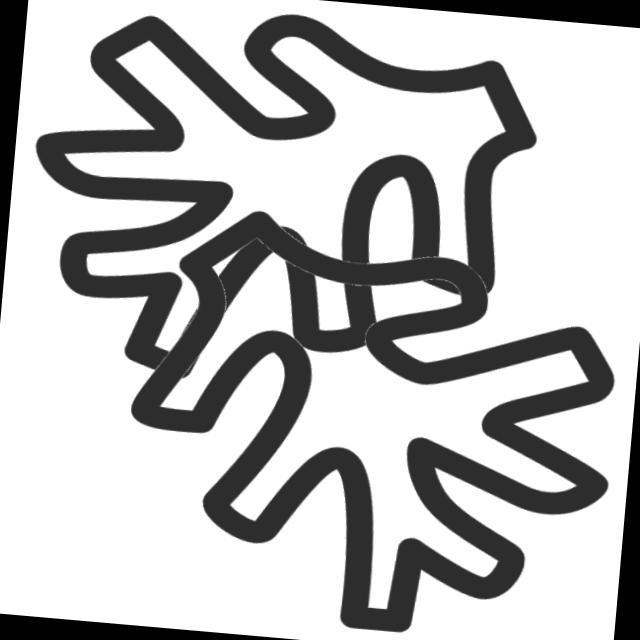coral: (103, 188, 640, 640), (7, 1, 558, 414)
